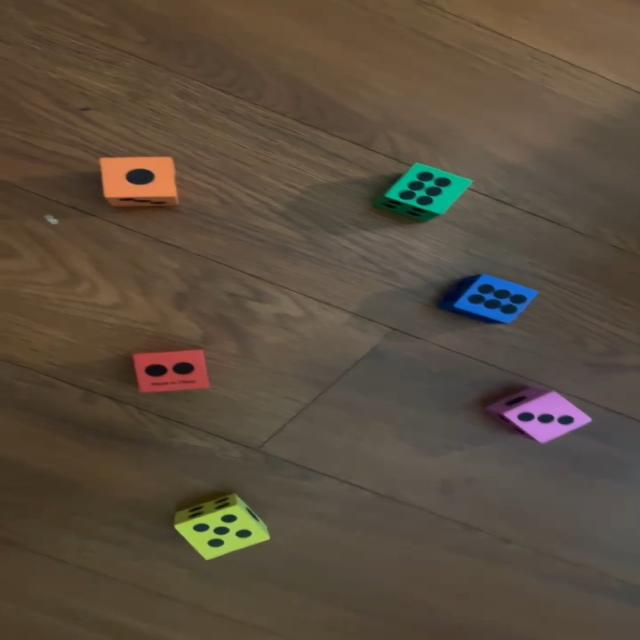blue_block: (433, 275, 539, 323)
red_block: (131, 348, 210, 392)
